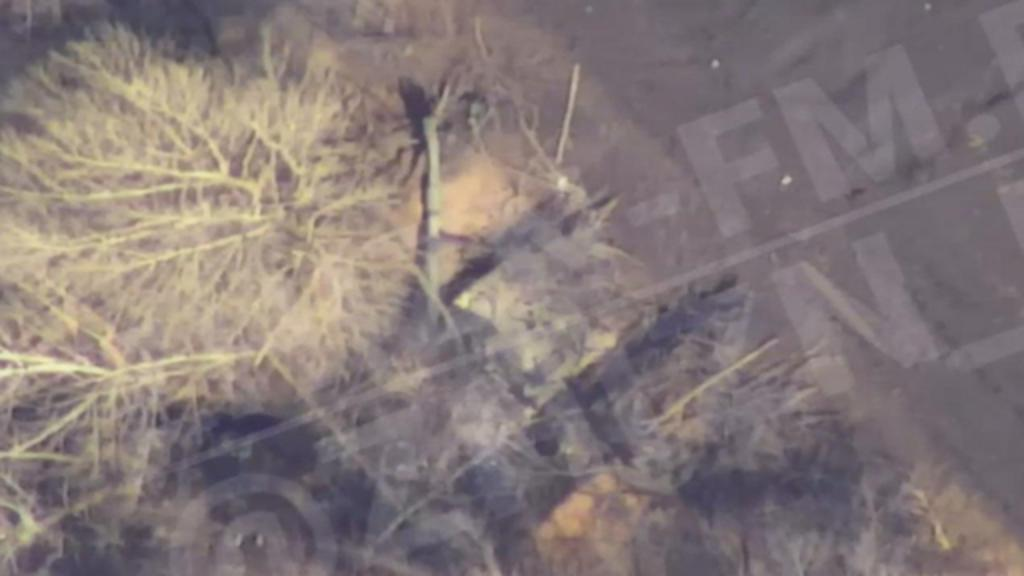ART: (374, 96, 516, 438)
